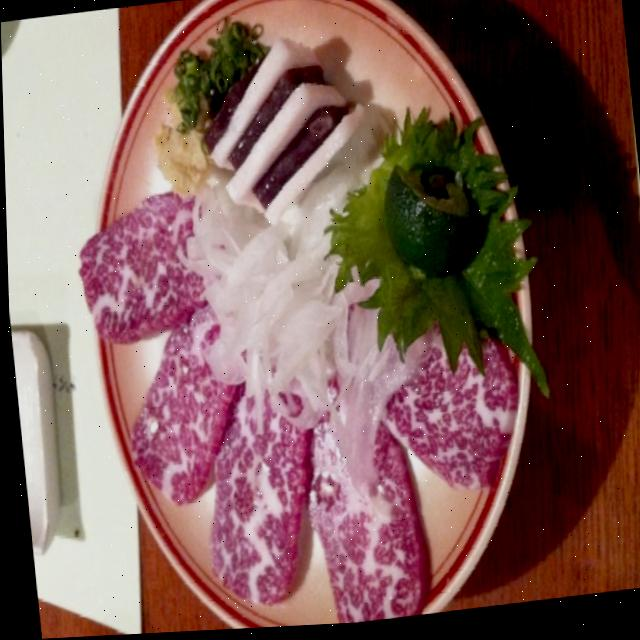刺身生食: (45, 0, 557, 638)
